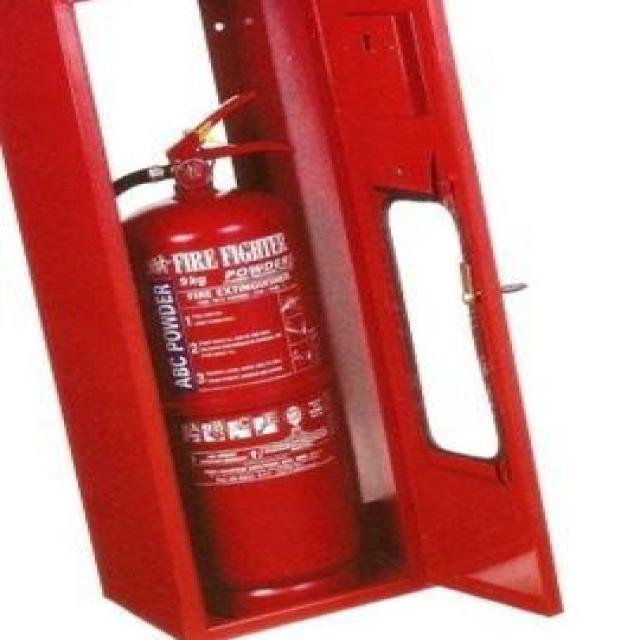fire_extinguisher: (74, 82, 376, 624)
